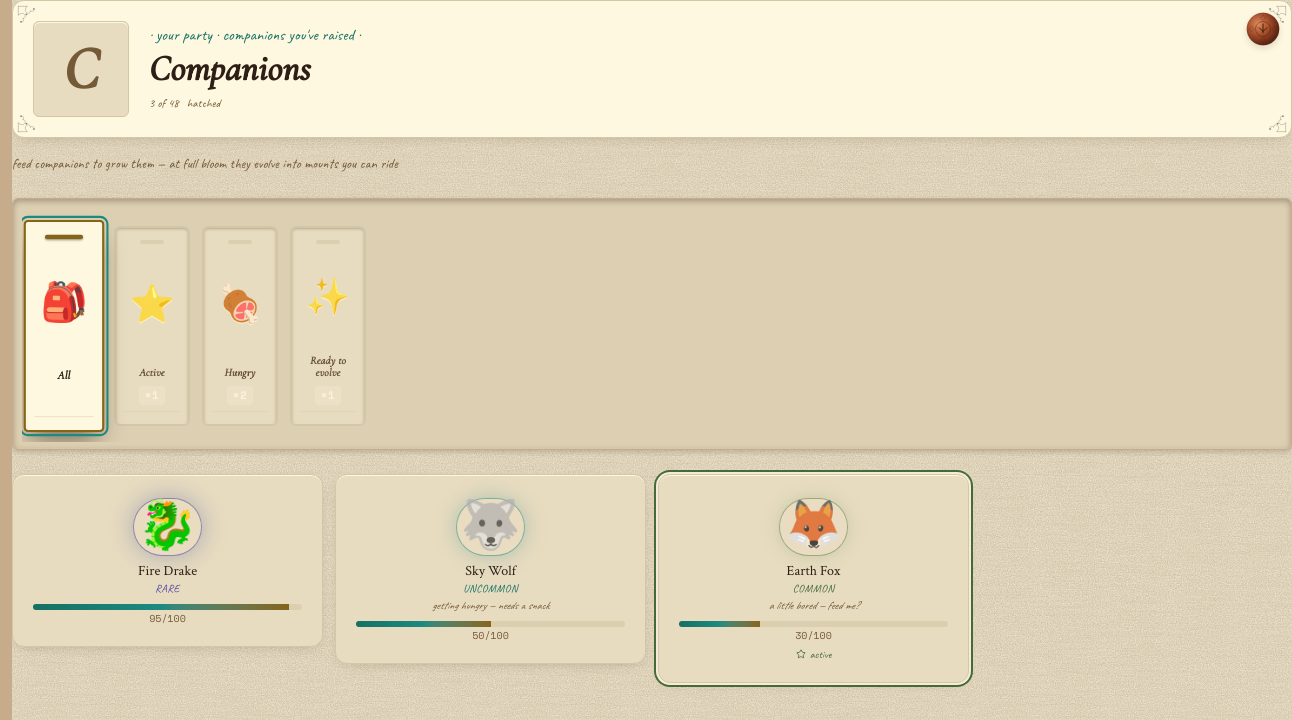
Companions tab › Hungry filter shows only bored/stale/away pets
This screenshot has width=1292, height=720.
Expected: the text "Fire Drake" is shown, [138,562,197,580]
What coordinates should you click on to do the following:
click the tab "🍖 Hungry ×2"
I would click on:
 (240, 326)
Its box is [202,226,278,426].
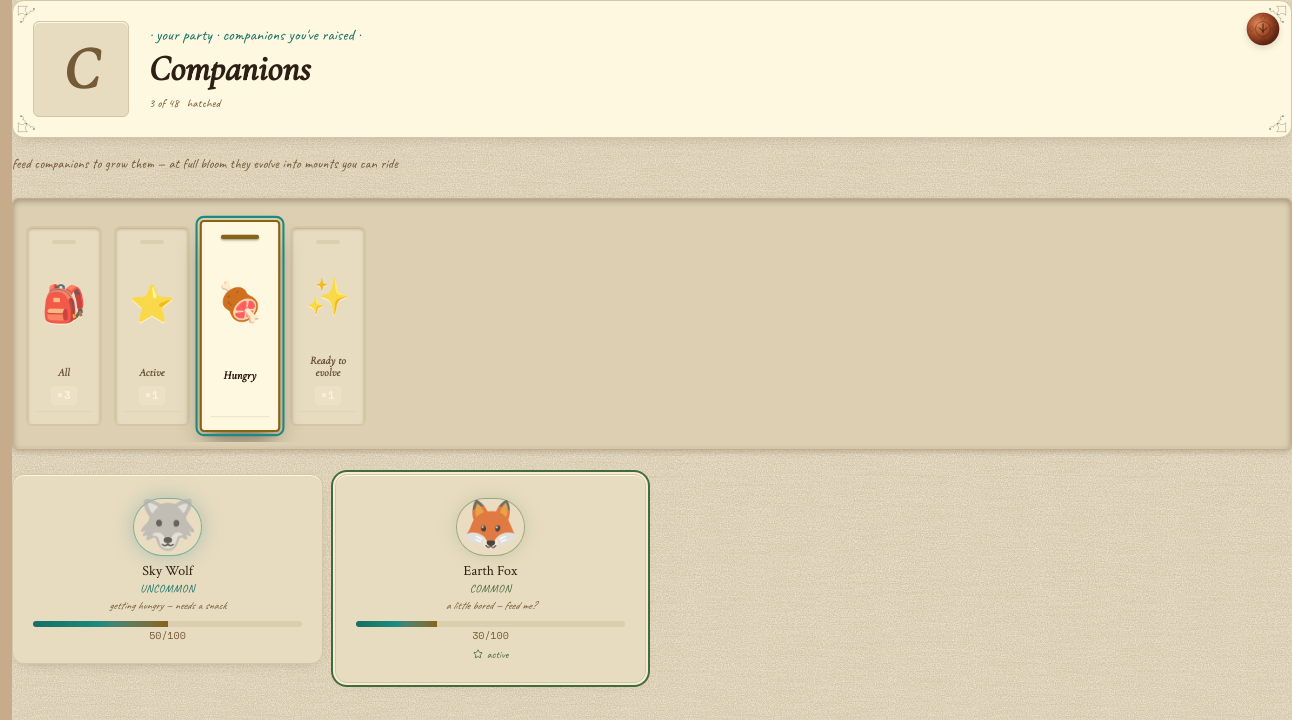
Expected: the text "Earth Fox" is shown, [464,562,517,580]
Now the text "Drake" is gone
